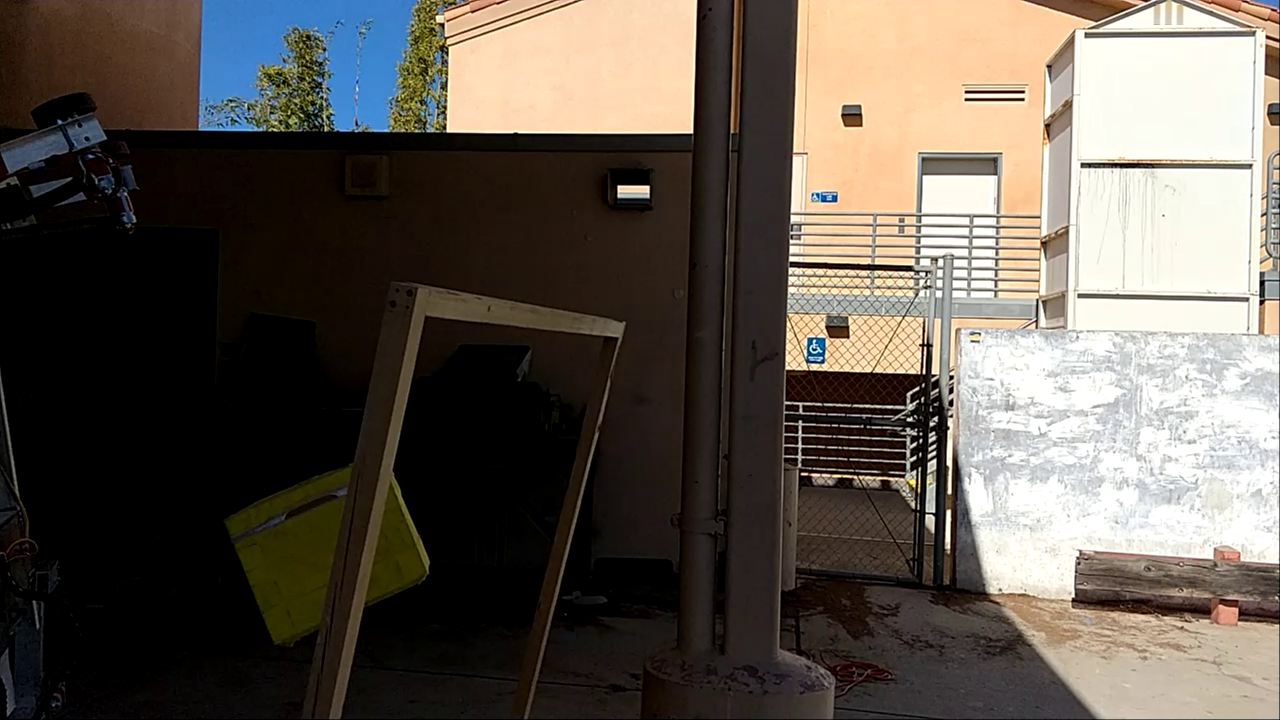cube: (219, 447, 431, 651)
